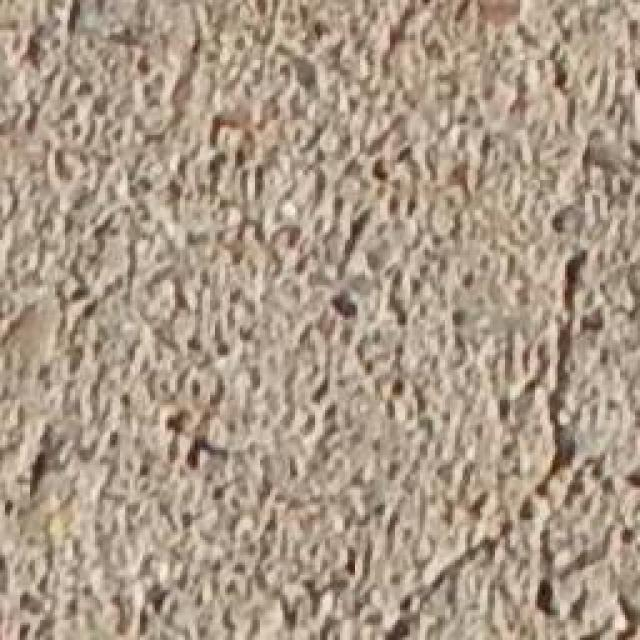concrete-crack: (376, 236, 605, 640)
